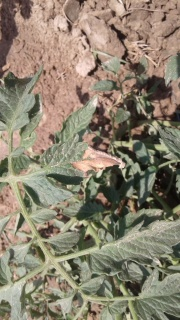tomato diseased leaf: (39, 146, 128, 178)
tomato plant: (4, 184, 180, 318)
